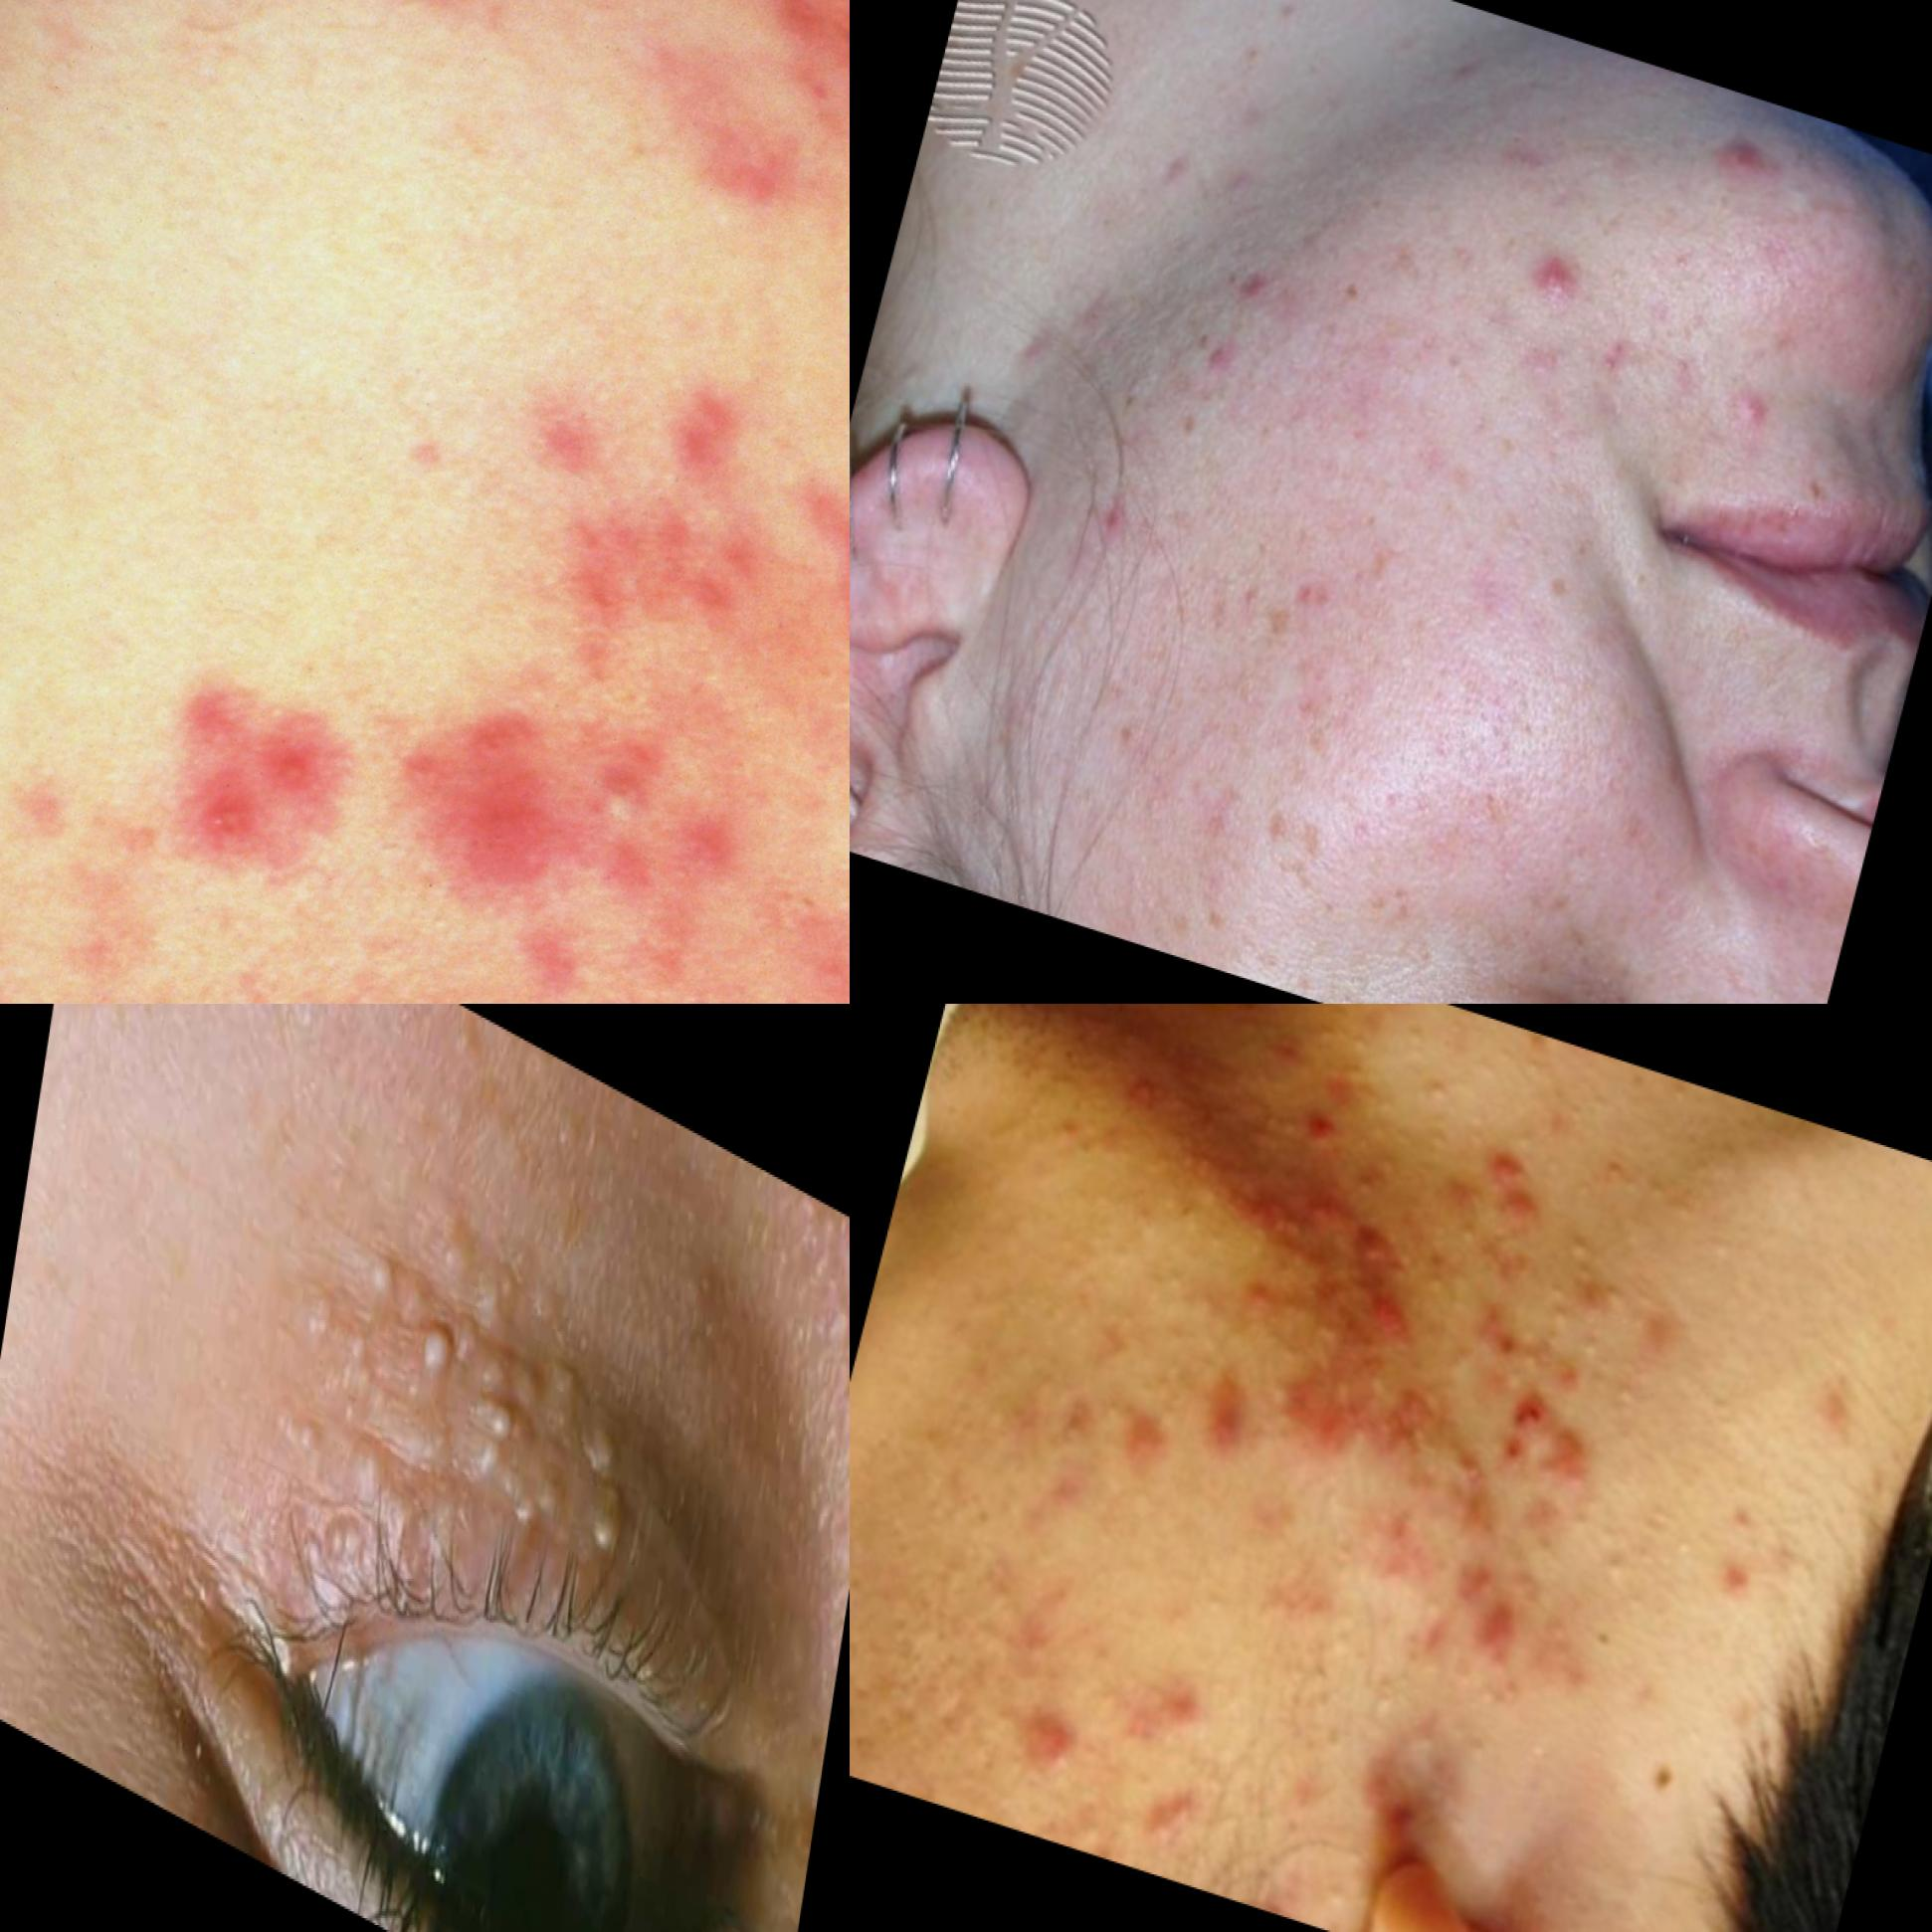milium: (285, 1279, 386, 1438), (414, 1295, 469, 1407), (269, 1401, 333, 1479), (471, 1385, 520, 1481), (311, 1500, 370, 1576), (579, 1493, 628, 1562)
papular: (150, 653, 414, 908), (1686, 83, 1810, 211), (1476, 1104, 1591, 1240), (1507, 184, 1601, 333), (1709, 329, 1808, 456), (1123, 1642, 1230, 1741), (1332, 1258, 1428, 1361), (1189, 1368, 1272, 1470), (1017, 1690, 1104, 1776), (1495, 1364, 1559, 1470), (1465, 1603, 1537, 1686), (1361, 1780, 1437, 1858), (1295, 1093, 1369, 1173), (1295, 1162, 1364, 1244), (1125, 1410, 1180, 1483), (1546, 1428, 1605, 1495)
purulent: (554, 732, 701, 858)
syringoma: (341, 1430, 481, 1568), (425, 1191, 533, 1343), (531, 1338, 596, 1460)
whitehead: (1578, 1511, 1654, 1594), (1131, 1778, 1192, 1874), (1700, 1212, 1771, 1288), (1353, 1654, 1414, 1743), (931, 1529, 994, 1605), (1295, 1856, 1362, 1927), (1152, 1244, 1217, 1315), (1663, 1497, 1713, 1576), (1553, 1215, 1619, 1276), (1394, 1711, 1460, 1771), (1449, 1713, 1506, 1780), (1433, 1323, 1495, 1384), (1560, 1315, 1619, 1375), (1603, 1373, 1661, 1428), (1437, 1200, 1491, 1254), (1415, 1060, 1467, 1113), (1288, 1674, 1338, 1729)
